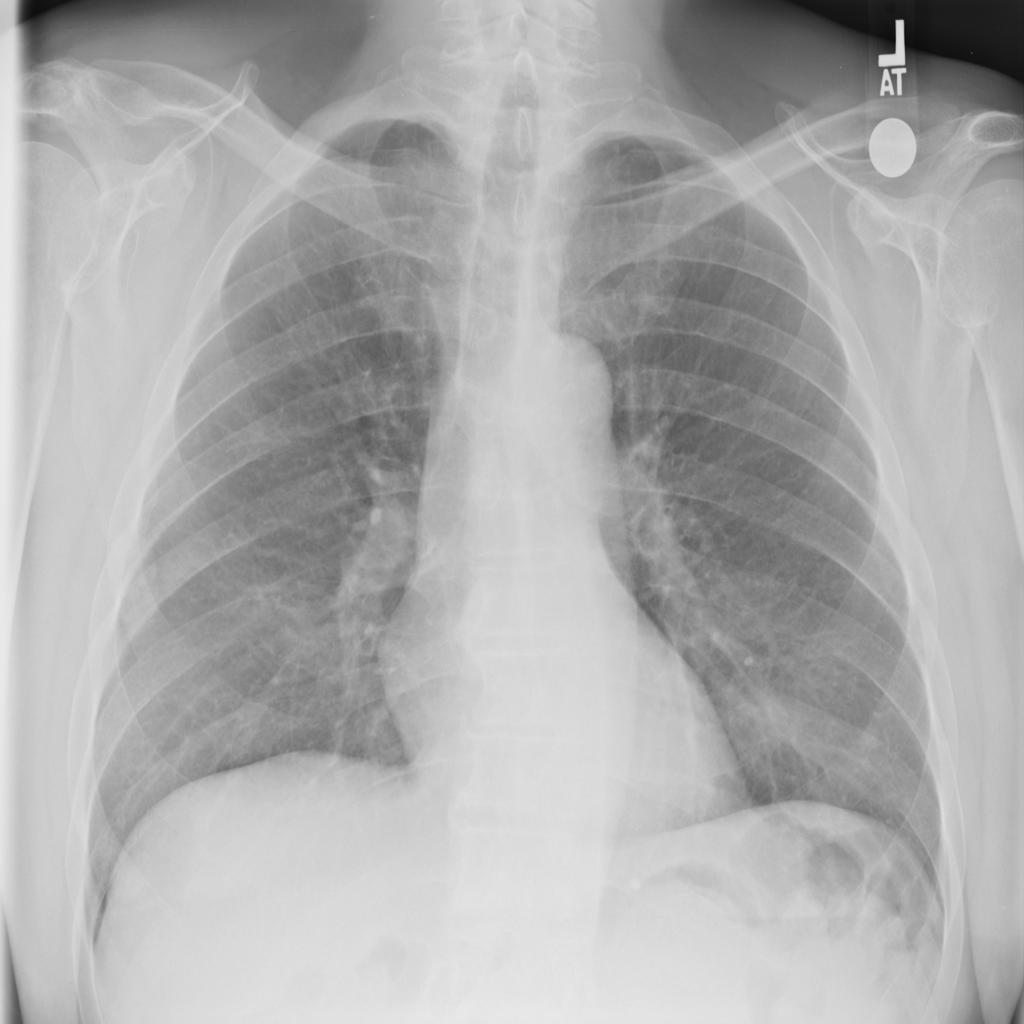nodule: (849, 707, 897, 761)
